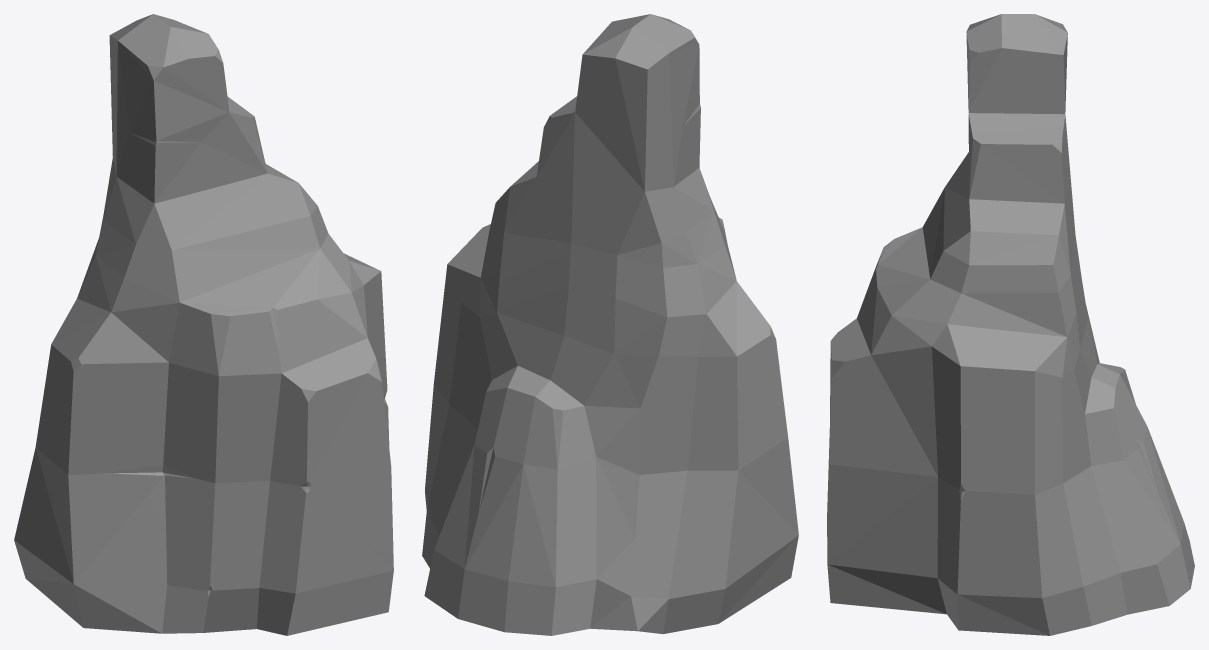
Rendered from EA03_Env_Rock_Slice_01a.glb.
The picture shows the model from 3 angles, left to right: view 1: azimuth 30°, elevation 25°; view 2: azimuth 150°, elevation 25°; view 3: azimuth 270°, elevation 25°; orthographic projection. The views are drawn at different scales.
Parts seen in each view (by area): view 1: EA03_Env_Rock_Slice_01a; view 2: EA03_Env_Rock_Slice_01a; view 3: EA03_Env_Rock_Slice_01a.
Boxes of the visible parts, x1,y1,x2,y2 form: EA03_Env_Rock_Slice_01a: (14, 14, 393, 635); EA03_Env_Rock_Slice_01a: (422, 14, 798, 635); EA03_Env_Rock_Slice_01a: (827, 14, 1194, 635).
Bounding box in the file's own units: 3.65 × 6.01 × 3.71.
1 material, 1 textured.
